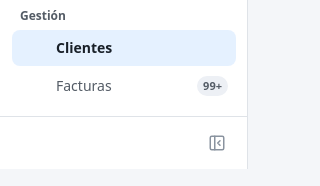
Test case: 01 BarraLateral › se pliega, lo dice y avisa para guardar la preferencia
The image size is (320, 186).
Click the button named "Plegar menú". click: (217, 143)
box: [199,125,235,161]
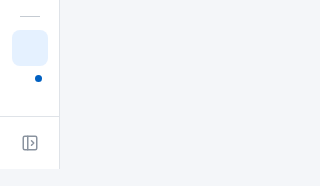
expect the button named "Desplegar menú" is collapsed: met, box [12,125,48,161]
